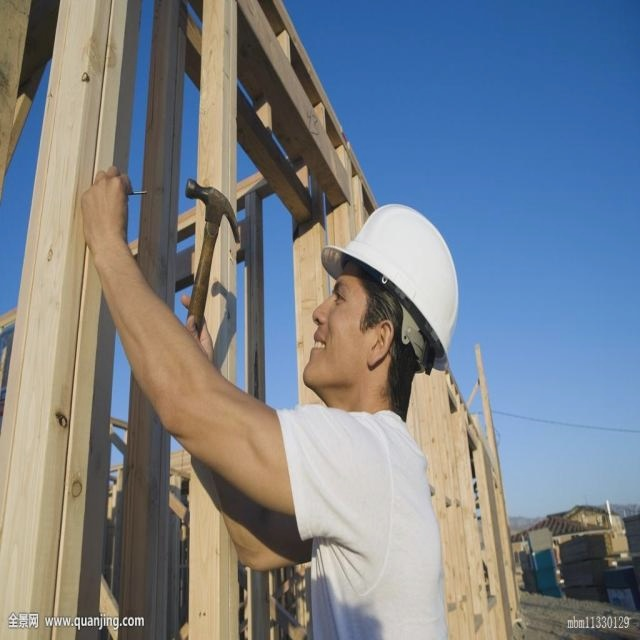Con_Casco: (303, 198, 457, 400)
Sin_Chaleco: (272, 406, 453, 640)
